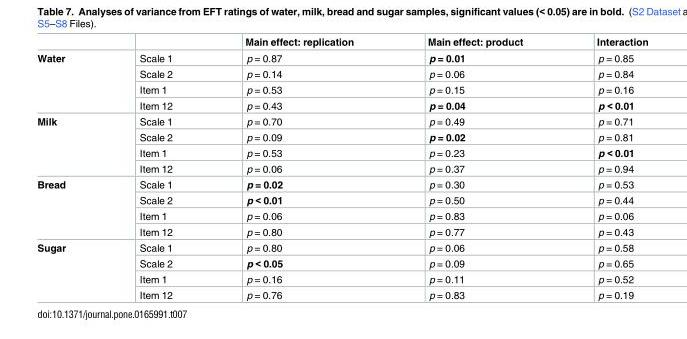table: (36, 37, 647, 300)
table column: (208, 37, 390, 300), (390, 37, 559, 300), (101, 37, 208, 300), (559, 37, 647, 300), (36, 37, 101, 300)
table column header: (36, 37, 647, 50)
table row: (36, 144, 647, 161), (36, 191, 647, 208), (36, 50, 647, 66), (36, 66, 647, 82), (36, 97, 647, 113), (36, 113, 647, 129), (36, 208, 647, 224), (36, 239, 647, 255), (36, 255, 647, 271), (36, 271, 647, 287), (36, 82, 647, 97), (36, 129, 647, 144), (36, 161, 647, 176), (36, 176, 647, 191), (36, 224, 647, 239), (36, 37, 647, 50), (36, 287, 647, 300)
table spanning cell: (36, 50, 101, 113), (36, 113, 101, 176), (36, 176, 101, 239), (36, 239, 101, 300)
